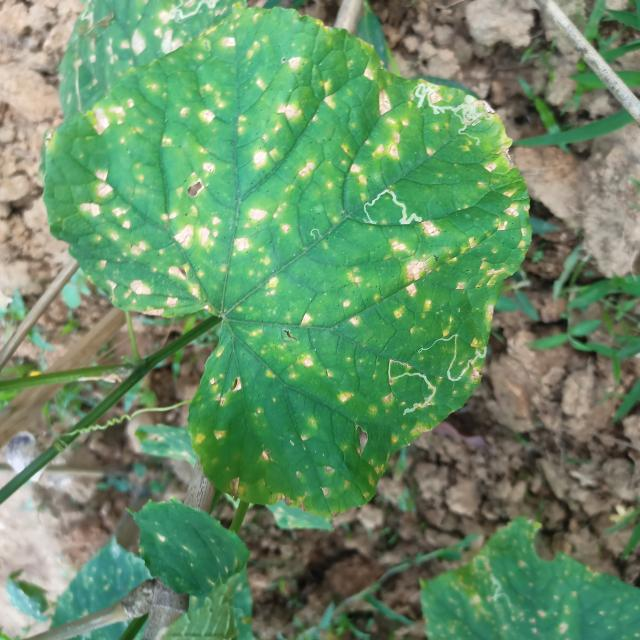disease_cucumber: (70, 28, 524, 510)
